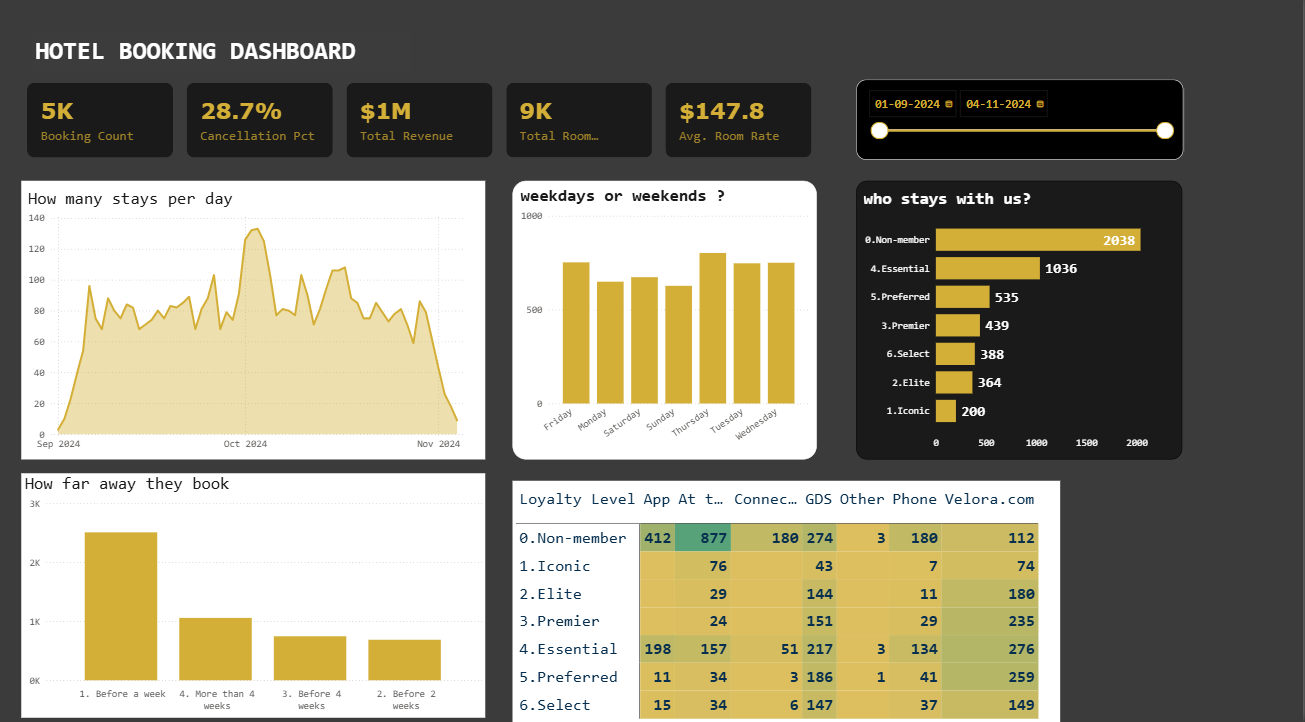

This screenshot's page, from the dashboard's own definition file:
{"tool":"powerbi","page":{"name":"Bookings Report BLANK","canvas":[1920,1080],"ordinal":0},"visuals":[{"type":"cardVisual","fields":{"Data":["bookings.Booking Count","bookings.Cancellation Pct","bookings.Total Revenue","bookings.Total Room Nights","bookings.Avg. Room Rate"]},"box":[35,128.3,1168.3,120],"z":0},{"type":"lineChart","title":"How many stays per day","fields":{"Category":["bookings.Stay Date"],"Y":["bookings.Booking Count"]},"box":[31.7,278.3,683.3,410],"z":1000},{"type":"slicer","fields":{"Values":["bookings.Stay Date"]},"box":[1260,128.3,481.7,118.3],"z":2000},{"type":"clusteredColumnChart","title":"weekdays or weekends ?","fields":{"Category":["bookings.Day Name"],"Y":["bookings.Booking Count"]},"box":[755,278.3,448.3,410],"z":3000},{"type":"clusteredBarChart","title":"who stays with us?","fields":{"Category":["bookings.Loyalty Level"],"Y":["bookings.Booking Count"]},"box":[1260,278.3,480,410],"z":4000},{"type":"columnChart","title":"How far away they book","fields":{"Category":["bookings.How far away bucket"],"Y":["bookings.Booking Count"]},"box":[31.7,708.3,683.3,360],"z":5000},{"type":"pivotTable","fields":{"Rows":["bookings.Loyalty Level"],"Values":["bookings.Booking Count"],"Columns":["bookings.Booking Channel"]},"box":[755,720,806.7,360],"z":6000},{"type":"textbox","box":[46.7,58.3,560,56.7],"z":7000}]}

Visuals, with their boxes in screenshot pixels (x1, y1, x2, y2), scaled from the page's 1920x1080 canvas onto the 1305x722 screenshot:
cardVisual - bookings.Booking Count x bookings.Cancellation Pct: 24, 86, 818, 166
"How many stays per day" lineChart: 22, 186, 486, 460
slicer - bookings.Stay Date: 856, 86, 1184, 165
"weekdays or weekends ?" clusteredColumnChart: 513, 186, 818, 460
"who stays with us?" clusteredBarChart: 856, 186, 1183, 460
"How far away they book" columnChart: 22, 474, 486, 714
pivotTable - bookings.Loyalty Level x bookings.Booking Count: 513, 481, 1061, 721
textbox: 32, 39, 412, 77
